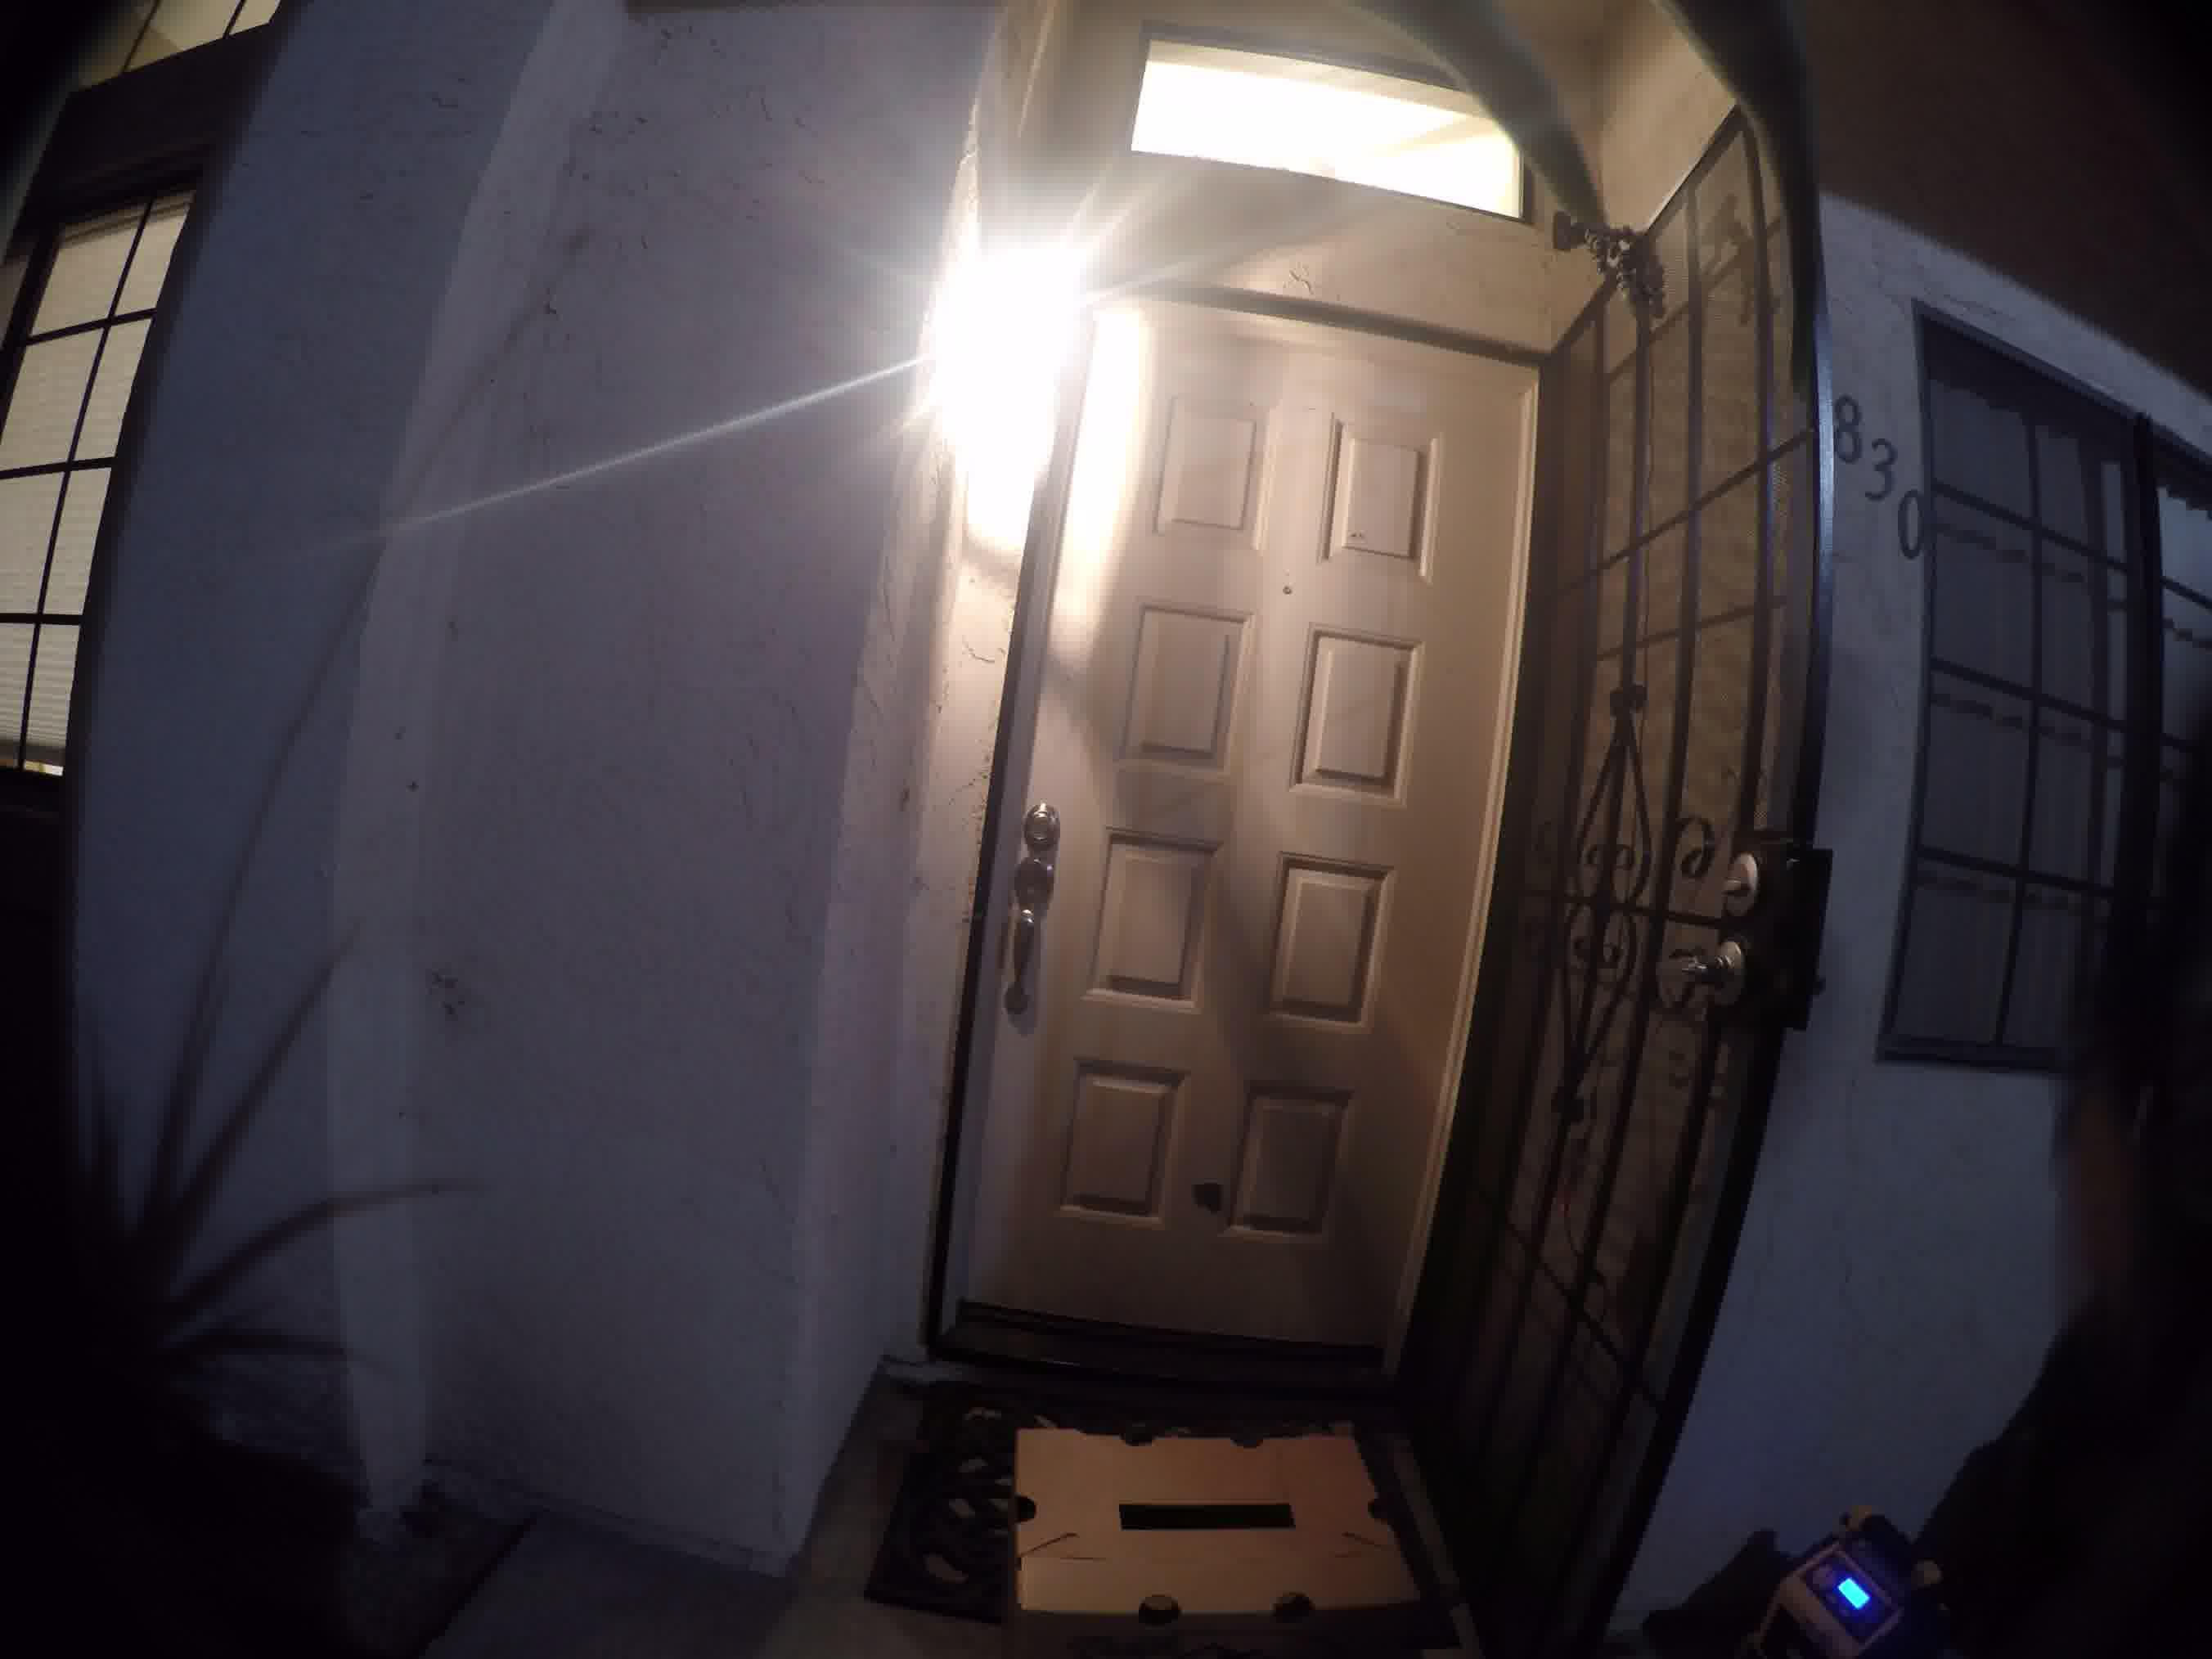box: (1005, 1399, 1414, 1626)
